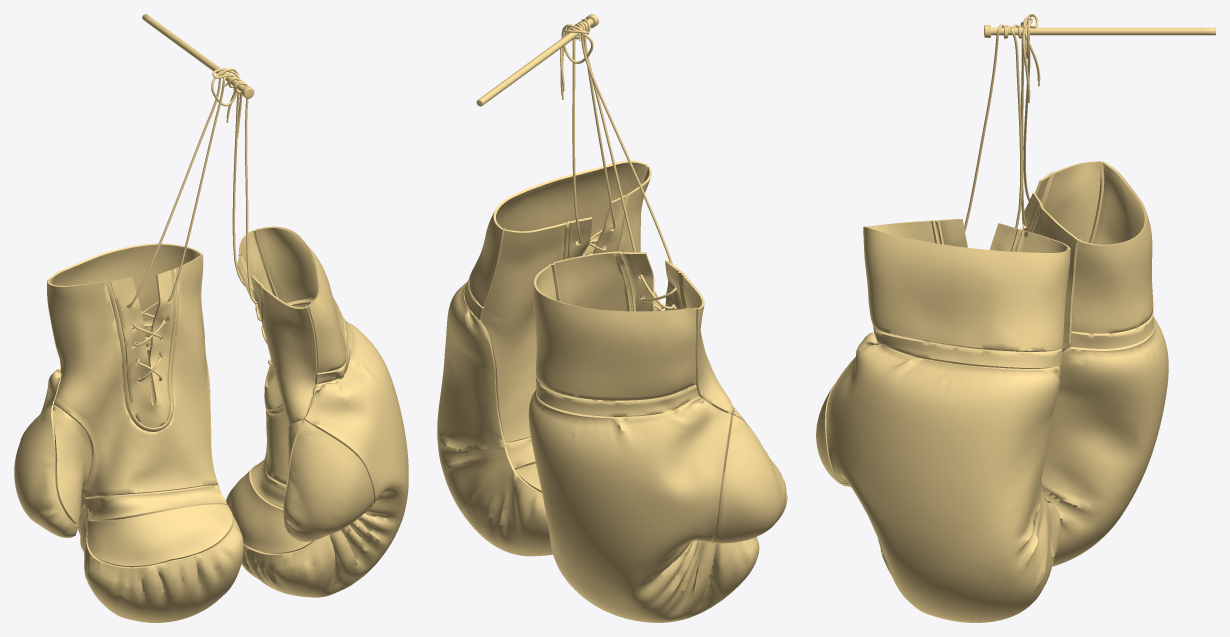
File: golden-gloves.glb
The picture shows the model from 3 angles, left to right: view 1: azimuth 30°, elevation 25°; view 2: azimuth 150°, elevation 25°; view 3: azimuth 270°, elevation 25°; orthographic projection. The views are drawn at different scales.
Visible parts, largest first — view 1: Group002, Shnur.001, Shnur, Cylinder001; view 2: Group002, Shnur.001, Shnur, Cylinder001; view 3: Group002, Cylinder001, Shnur.001, Shnur.
Part boxes in pixels (x1,y1,x2,y2): Group002: (14, 226, 408, 622); Shnur.001: (127, 68, 242, 381); Shnur: (224, 76, 272, 365); Cylinder001: (142, 14, 254, 98); Group002: (437, 160, 787, 622); Shnur.001: (560, 24, 676, 310); Shnur: (572, 18, 615, 255); Cylinder001: (476, 14, 598, 106); Group002: (816, 161, 1168, 622); Cylinder001: (984, 25, 1215, 37); Shnur.001: (1020, 14, 1040, 229); Shnur: (964, 24, 1022, 231).
Size of the model in its own units: 0.2581 by 0.387 by 0.2416.
